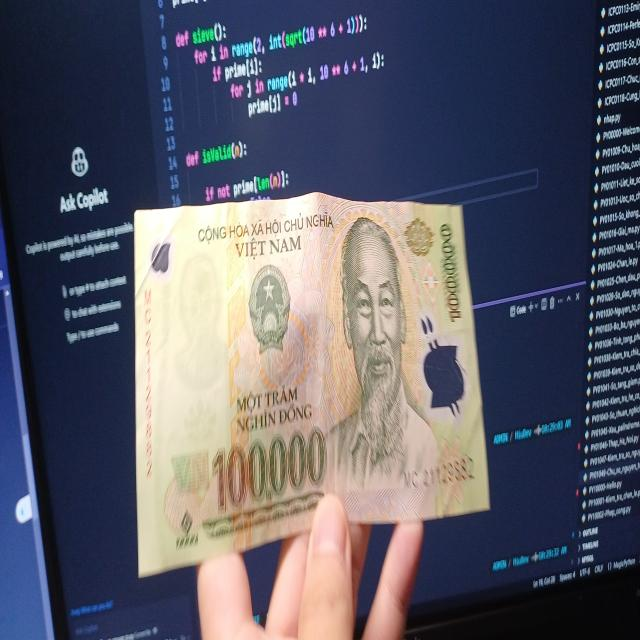100 000 VND: (131, 188, 493, 580)
